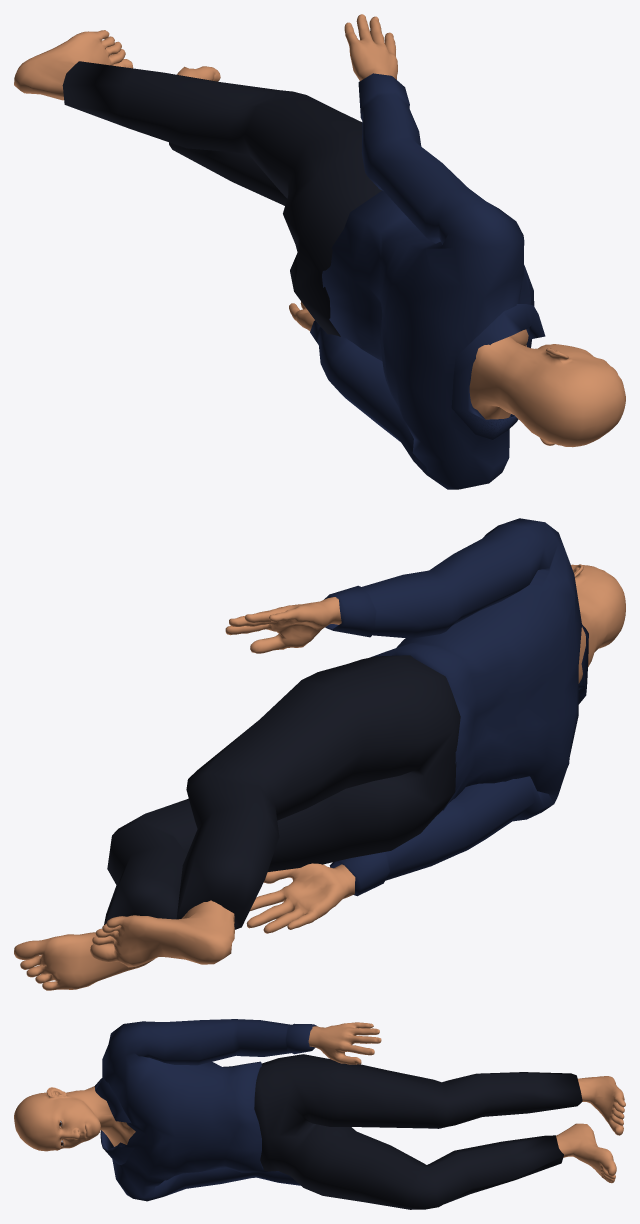
File: walk.obj
3 views of the same model, one above another, from view 1: azimuth 30°, elevation 25°; view 2: azimuth 150°, elevation 25°; view 3: azimuth 270°, elevation 25° (orthographic). The views are drawn at different scales.
Size of the model in its own units: 0.5078 by 0.5861 by 1.68.
